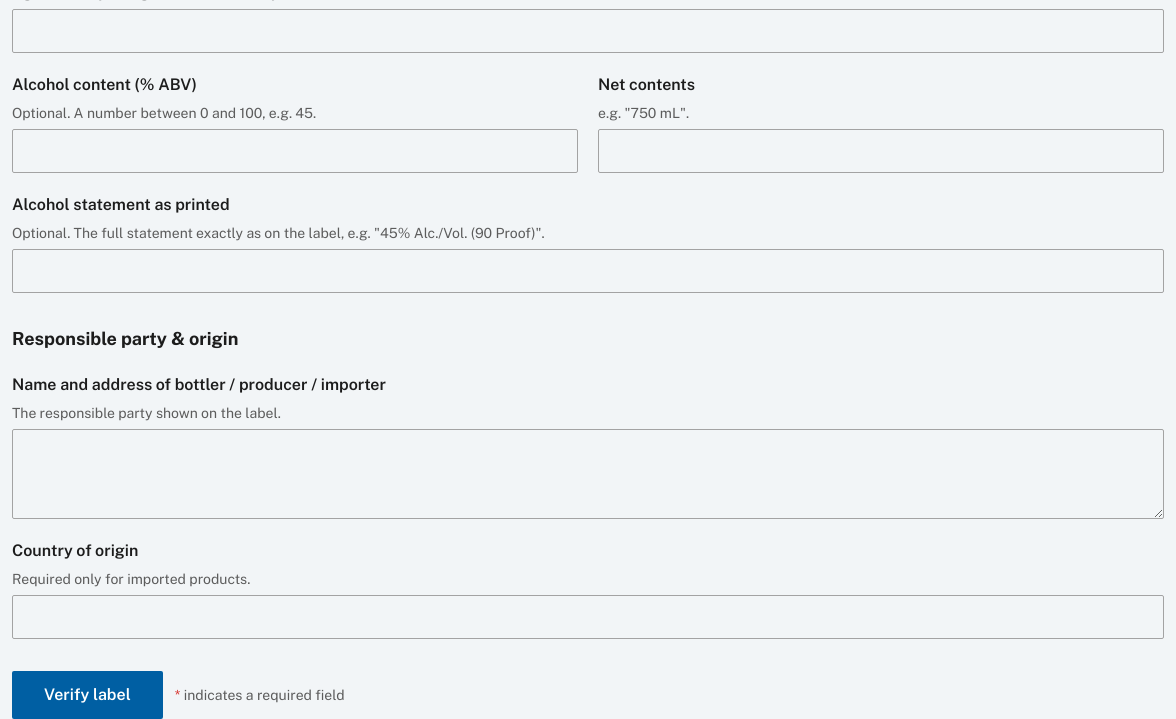
ApplicationForm › blocks submit and shows an error summary when required fields are empty
(page scrolled)
What coordinates should you click on to do the following:
click the button "Verify label"
I would click on:
 (87, 695)
Its box is [12,671,163,718].
(page scrolled)
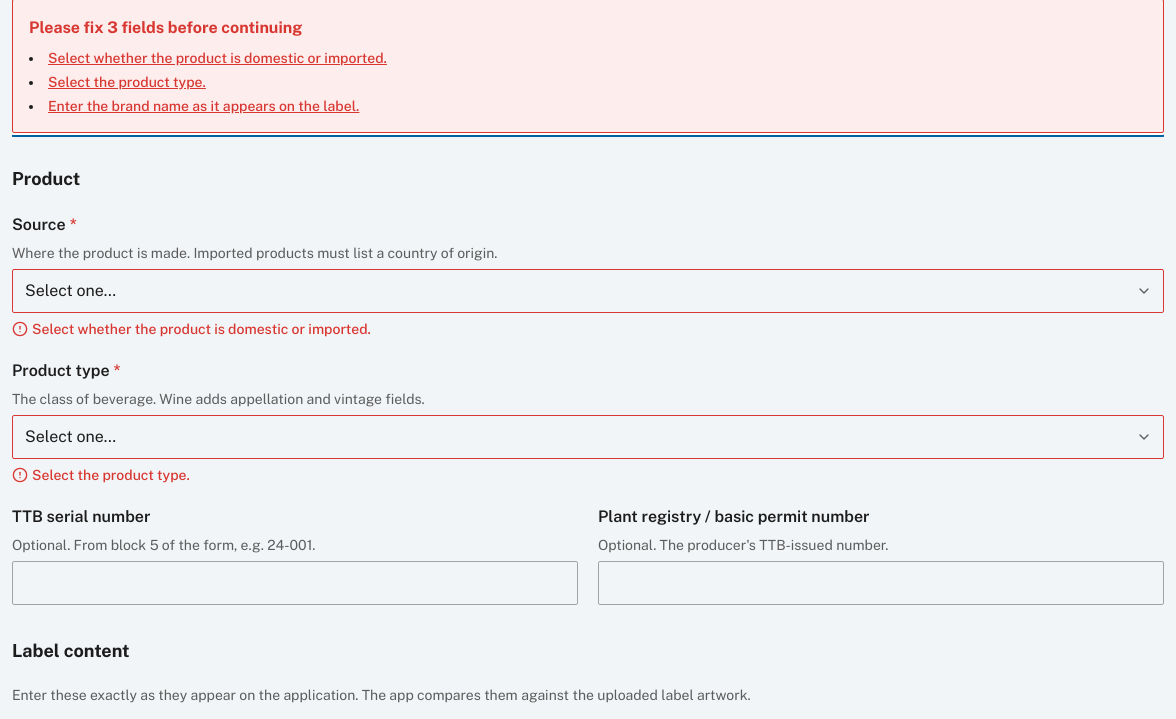
Expected: the heading "Please fix 3 fields before continuing" is shown, [29,18,302,37]
